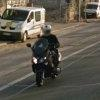Motorcycle: (22, 25, 63, 90)
